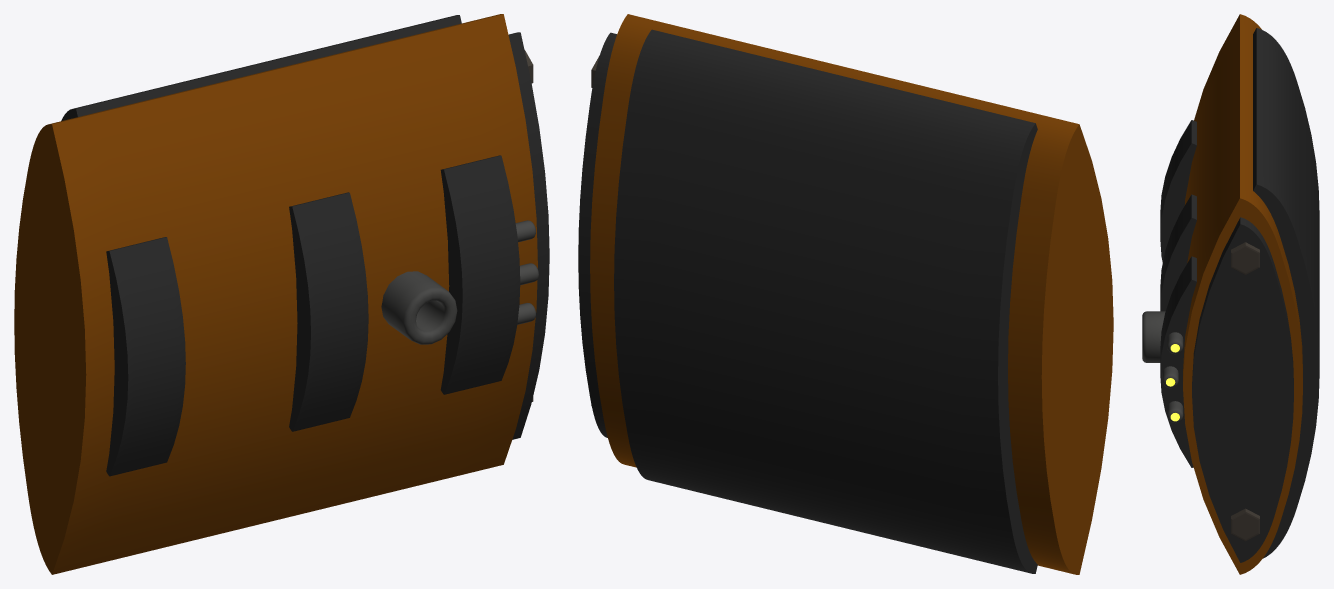
File: Крыло лево.fbx
3 views of the same model, side by side, from view 1: azimuth 30°, elevation 25°; view 2: azimuth 150°, elevation 25°; view 3: azimuth 270°, elevation 25° (orthographic). The views are drawn at different scales.
Visible parts, largest first — view 1: Cube_2, Cube_12, Cube_9, Cube_6, Cube_7, Tube, Cube_4; view 2: Cube_4, Cube_2, Cube_7; view 3: Cube_7, Cube_2, Cube_4, Cube_6, Cube_12, Cube_9, Крыло_1, Tube, Cylinder, Cylinder_2, Cylinder_3_3.
Part boxes in pixels (left/top/right/bottom): Cube_2: left=14, top=14, right=537, bottom=574; Cube_12: left=106, top=237, right=185, bottom=476; Cube_9: left=289, top=192, right=368, bottom=431; Cube_6: left=440, top=155, right=520, bottom=394; Cube_7: left=508, top=32, right=549, bottom=439; Tube: left=381, top=271, right=457, bottom=344; Cube_4: left=61, top=15, right=461, bottom=121; Cube_4: left=614, top=29, right=1037, bottom=573; Cube_2: left=590, top=14, right=1113, bottom=574; Cube_7: left=578, top=32, right=616, bottom=437; Cube_7: left=1192, top=217, right=1293, bottom=562; Cube_2: left=1183, top=14, right=1302, bottom=574; Cube_4: left=1253, top=28, right=1319, bottom=558; Cube_6: left=1160, top=256, right=1196, bottom=467; Cube_12: left=1160, top=120, right=1196, bottom=262; Cube_9: left=1160, top=194, right=1196, bottom=311; Крыло_1: left=1231, top=242, right=1259, bottom=541; Tube: left=1142, top=311, right=1165, bottom=362; Cylinder: left=1162, top=366, right=1178, bottom=388; Cylinder_2: left=1167, top=332, right=1183, bottom=354; Cylinder_3_3: left=1167, top=401, right=1183, bottom=423.
Size of the model in its own units: 139 by 125 by 53.52.
